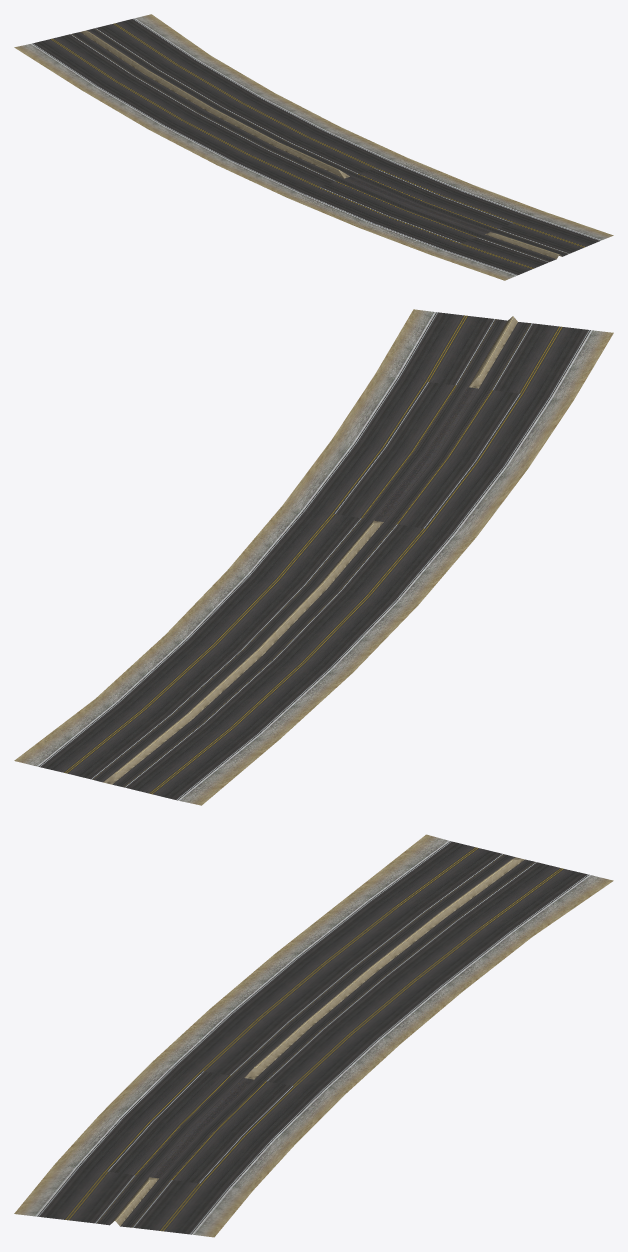
The model's file is vegassedge1919.obj.
3 views of the same model, one above another, from view 1: azimuth 30°, elevation 25°; view 2: azimuth 150°, elevation 25°; view 3: azimuth 330°, elevation 25° (orthographic). The views are drawn at different scales.
Parts seen in each view (by area): view 1: vegasSedge1919; view 2: vegasSedge1919; view 3: vegasSedge1919.
Part boxes in pixels (x1,y1,x2,y2): vegasSedge1919: (14, 14, 613, 280); vegasSedge1919: (14, 309, 613, 805); vegasSedge1919: (14, 834, 613, 1237).
Bounding box in the file's own units: 64.49 × 10.66 × 200.
Materials: 4 (4 with a texture image).
